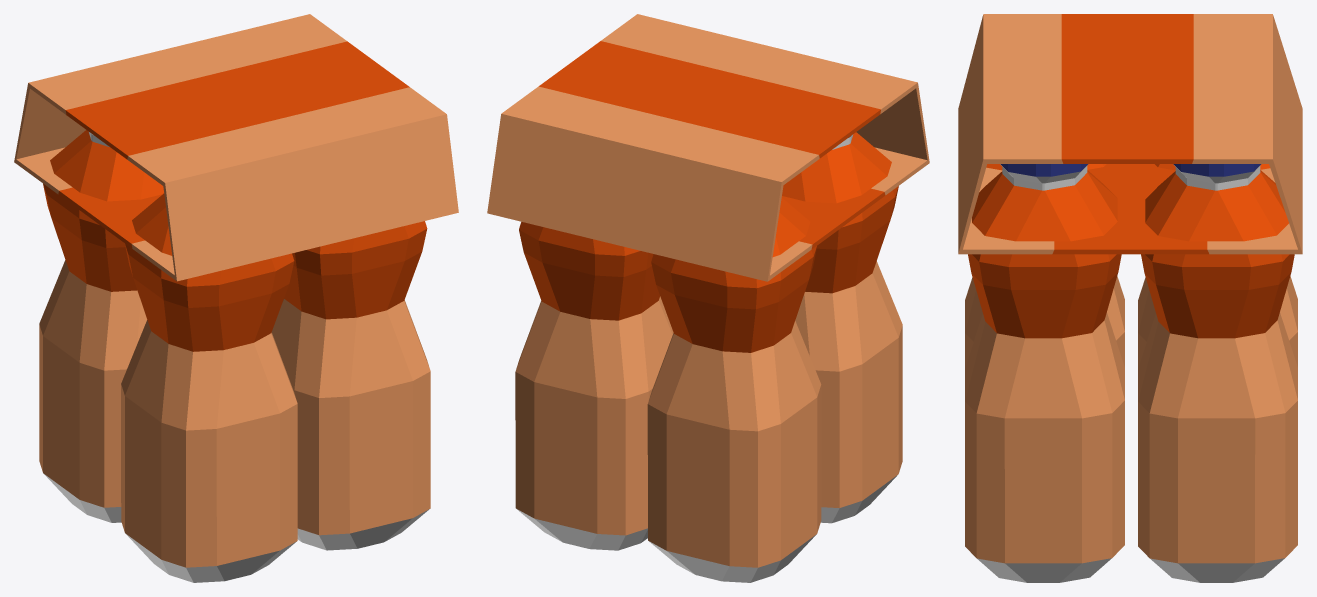
The model's file is Ma_Yogurt_Liquid_1.fbx.
3 views of the same model, side by side, from view 1: azimuth 30°, elevation 25°; view 2: azimuth 150°, elevation 25°; view 3: azimuth 270°, elevation 25° (orthographic). The views are drawn at different scales.
Parts seen in each view (by area): view 1: Ma_Yogurt_Liquid_1; view 2: Ma_Yogurt_Liquid_1; view 3: Ma_Yogurt_Liquid_1.
Part boxes in pixels (x1=…): Ma_Yogurt_Liquid_1: x1=14, y1=14, x2=458, y2=582; Ma_Yogurt_Liquid_1: x1=487, y1=14, x2=929, y2=582; Ma_Yogurt_Liquid_1: x1=958, y1=14, x2=1302, y2=582.
Bounding box in the file's own units: 82.82 × 82.92 × 116.
